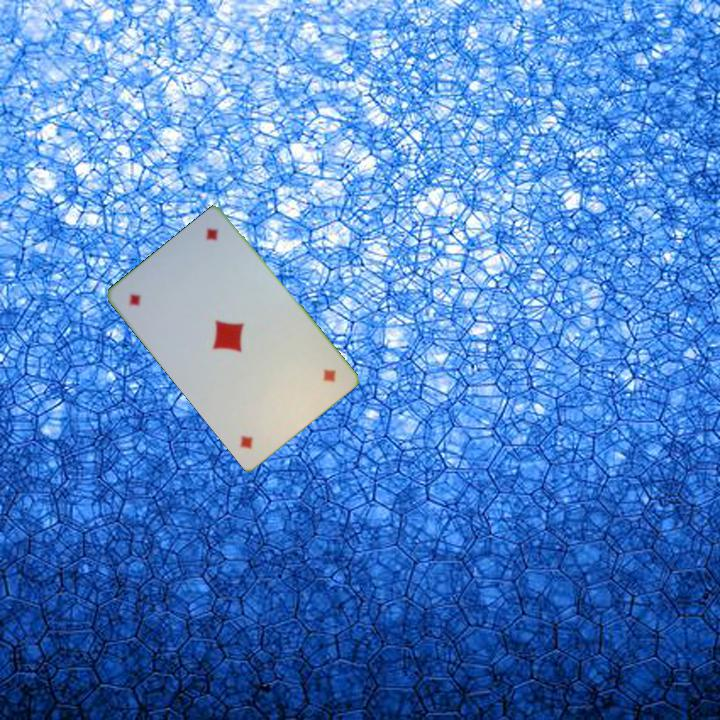d_a.png: (117, 254, 204, 339), (261, 335, 347, 420)
